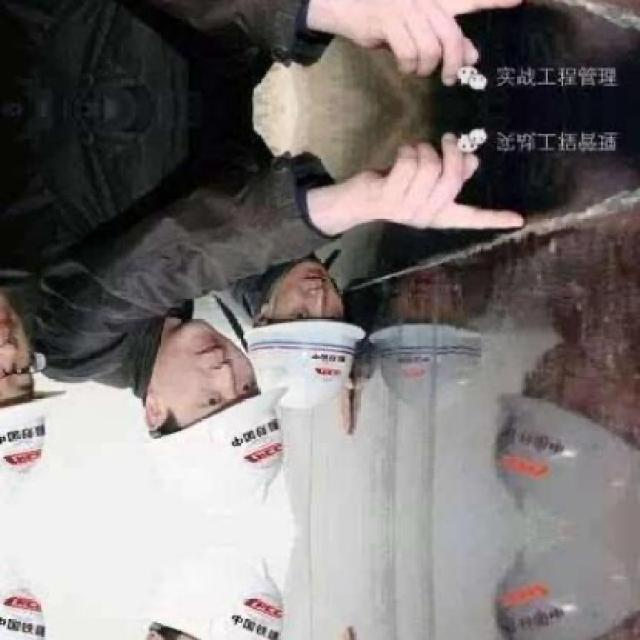con casco: (130, 362, 299, 468), (0, 302, 71, 482), (252, 282, 370, 385)
